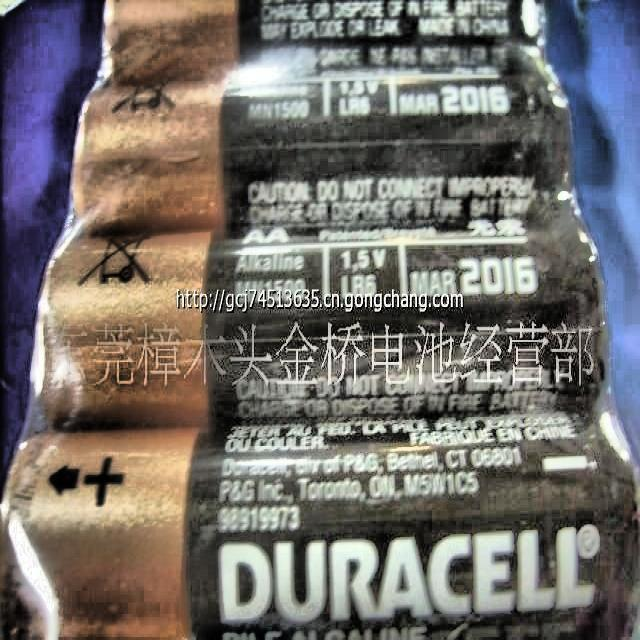battery: (0, 413, 636, 638), (34, 197, 606, 426), (72, 0, 579, 235)
